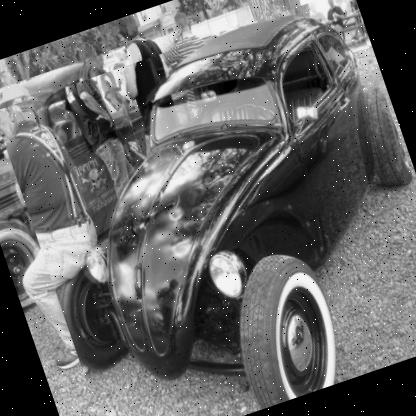Car: (0, 0, 415, 415), (0, 45, 196, 309)
